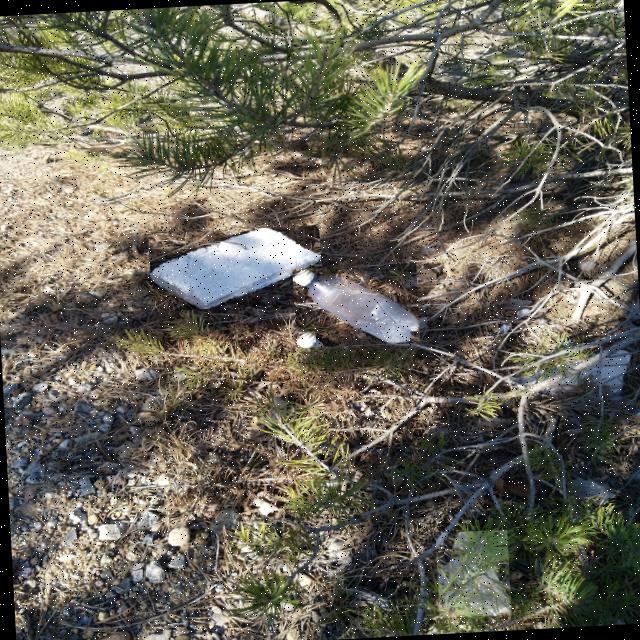Clear plastic bottle: (294, 269, 420, 343)
Plastic bottle cap: (298, 331, 315, 348)
Plastic film: (438, 532, 511, 616)
Styrofoam piece: (151, 228, 320, 309), (500, 325, 511, 332)
